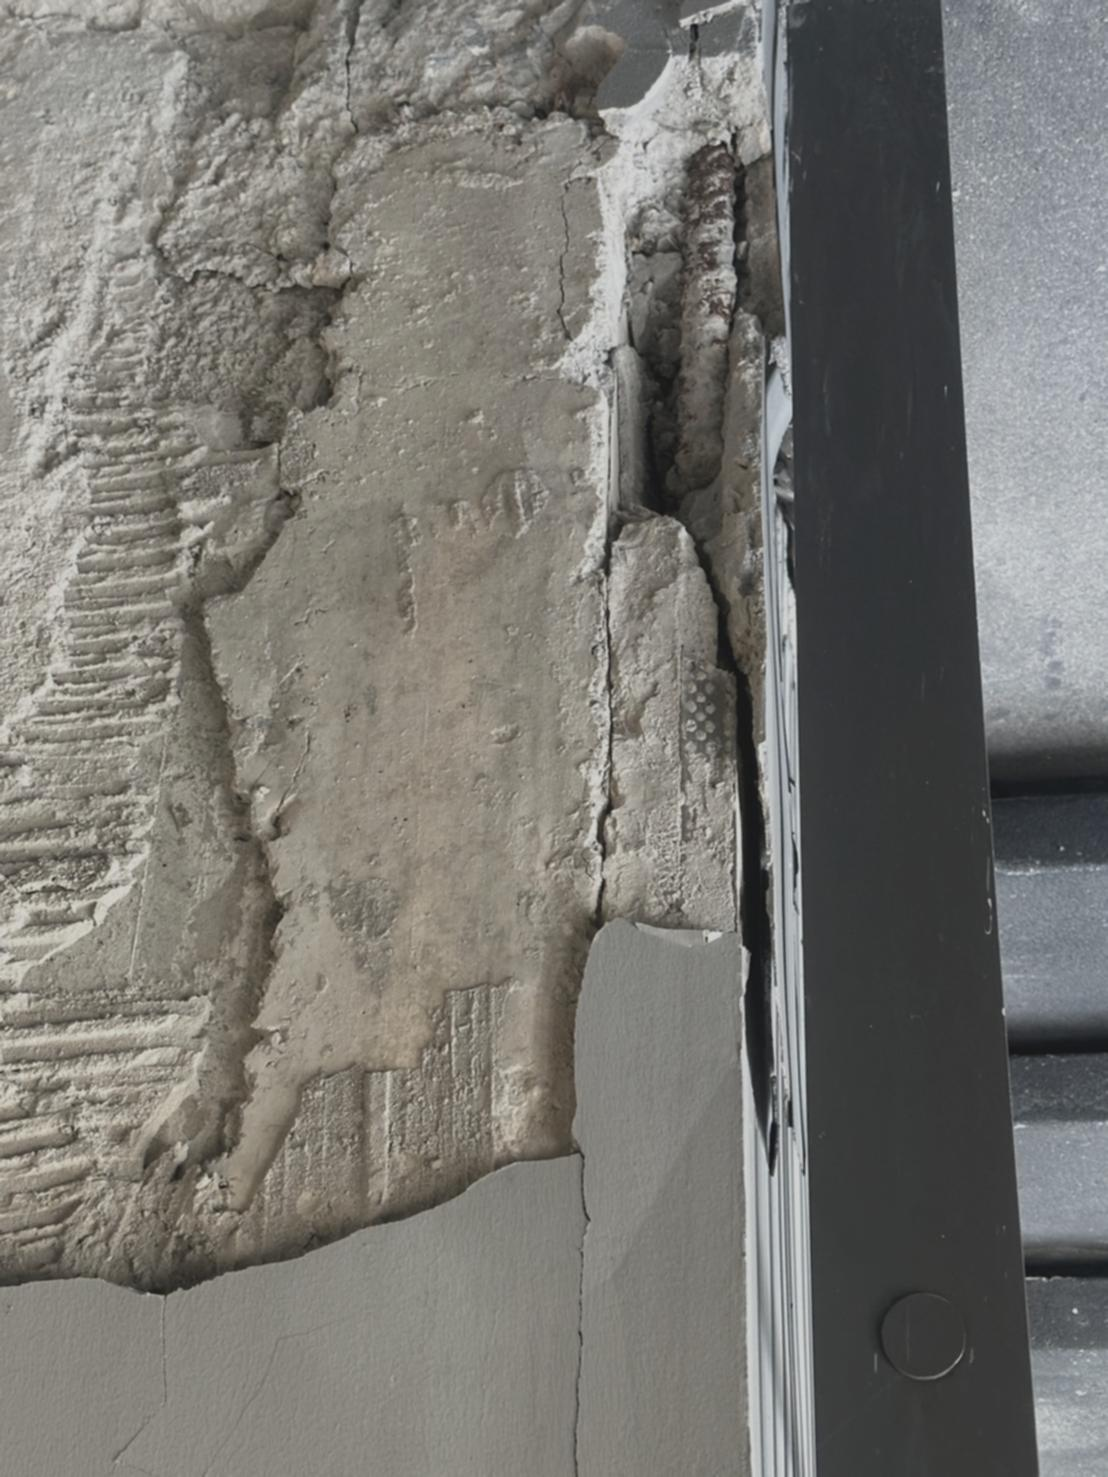High: (3, 3, 816, 1342)
